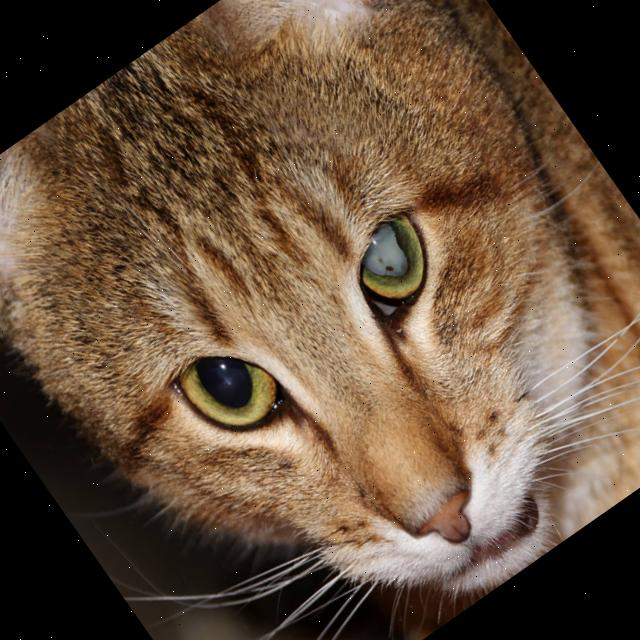cat-eye: (318, 195, 462, 341)
cat-eye-normal: (152, 312, 306, 470)
